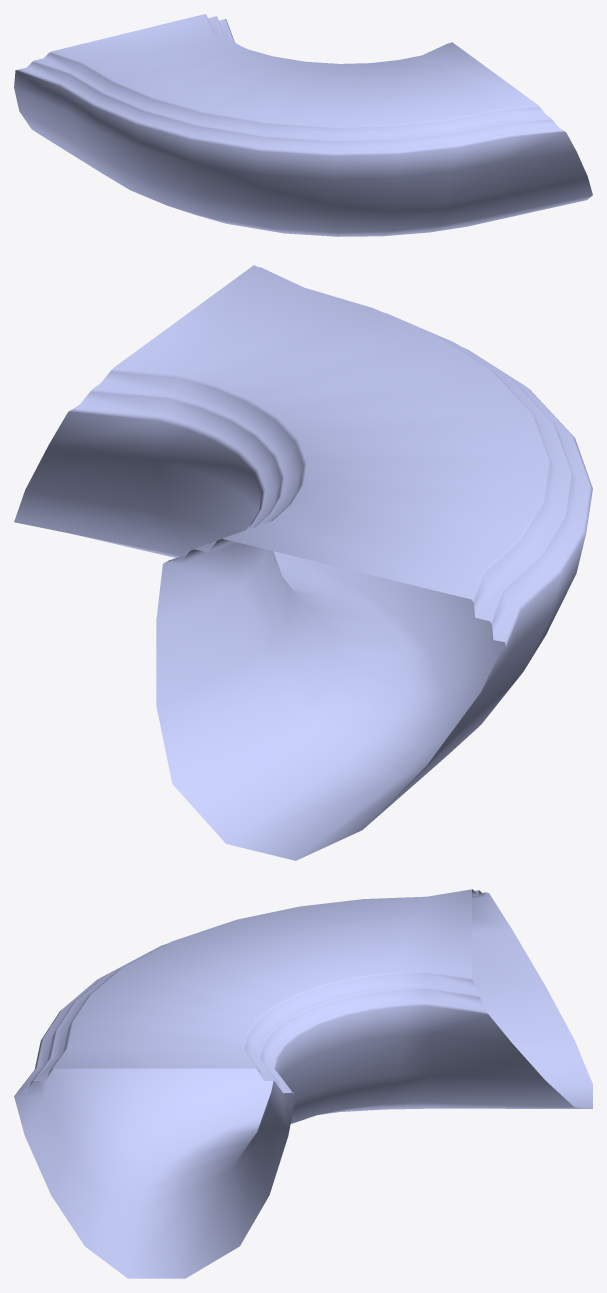
File: Bridge_Round.fbx
3 views of the same model, one above another, from view 1: azimuth 30°, elevation 25°; view 2: azimuth 150°, elevation 25°; view 3: azimuth 270°, elevation 25° (orthographic). The views are drawn at different scales.
Visible parts, largest first — view 1: Bridge_Round; view 2: Bridge_Round; view 3: Bridge_Round.
Boxes of the visible parts, x1,y1,x2,y2 form: Bridge_Round: [14, 14, 592, 236]; Bridge_Round: [14, 265, 592, 860]; Bridge_Round: [14, 889, 592, 1278].
Bounding box in the file's own units: 2197 × 691 × 2215.
